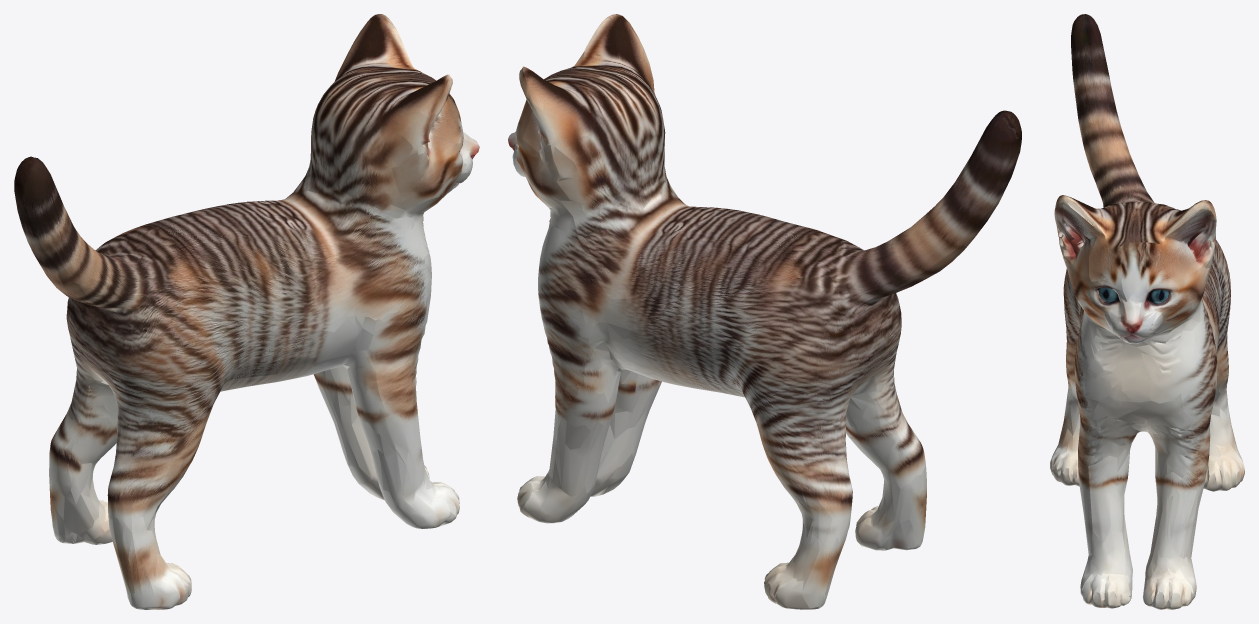
Rendered from COPYCC.glb.
The picture shows the model from 3 angles, left to right: view 1: azimuth 30°, elevation 25°; view 2: azimuth 150°, elevation 25°; view 3: azimuth 270°, elevation 25°; orthographic projection. The views are drawn at different scales.
Visible parts, largest first — view 1: fit; view 2: fit; view 3: fit.
Part boxes in pixels (bbox=[...]): fit: bbox=[14, 14, 479, 609]; fit: bbox=[508, 14, 1021, 609]; fit: bbox=[1050, 14, 1244, 609].
Size of the model in its own units: 1.09 by 1 by 0.432.
Materials: 1 (1 with a texture image).
